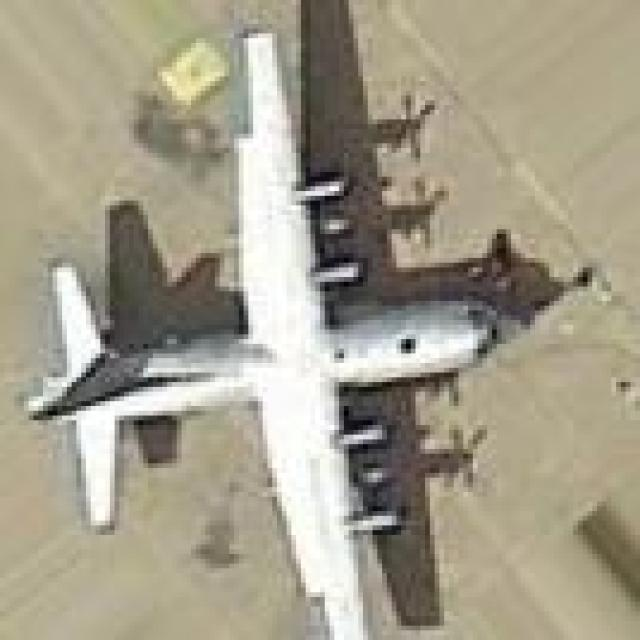C-130_TopDown: (28, 0, 574, 640)
